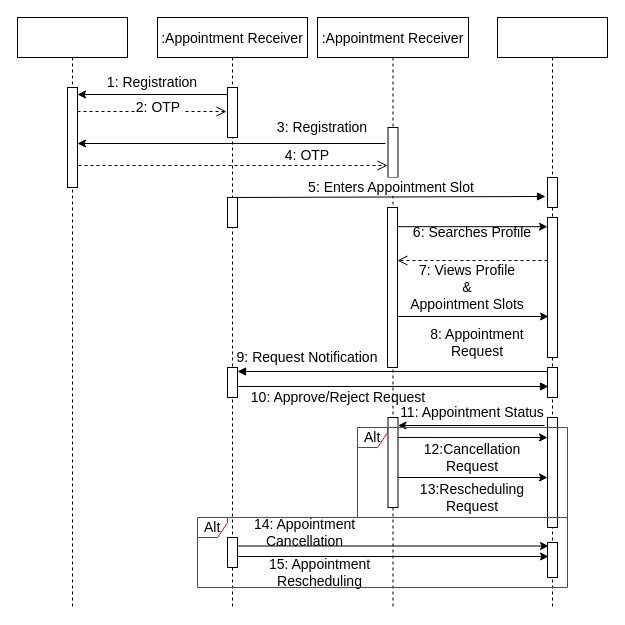
Image size: 625x625. Some labels were removed from this diagram. Each missing label, with the box of its shape:
:Database: (496, 16, 608, 608)
:System: (16, 16, 128, 608)
